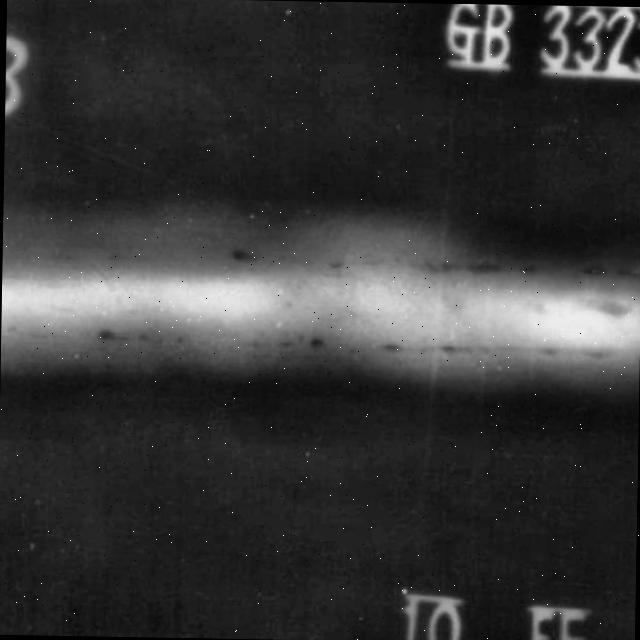LoP-LoF: (32, 300, 640, 382), (27, 221, 640, 295)
